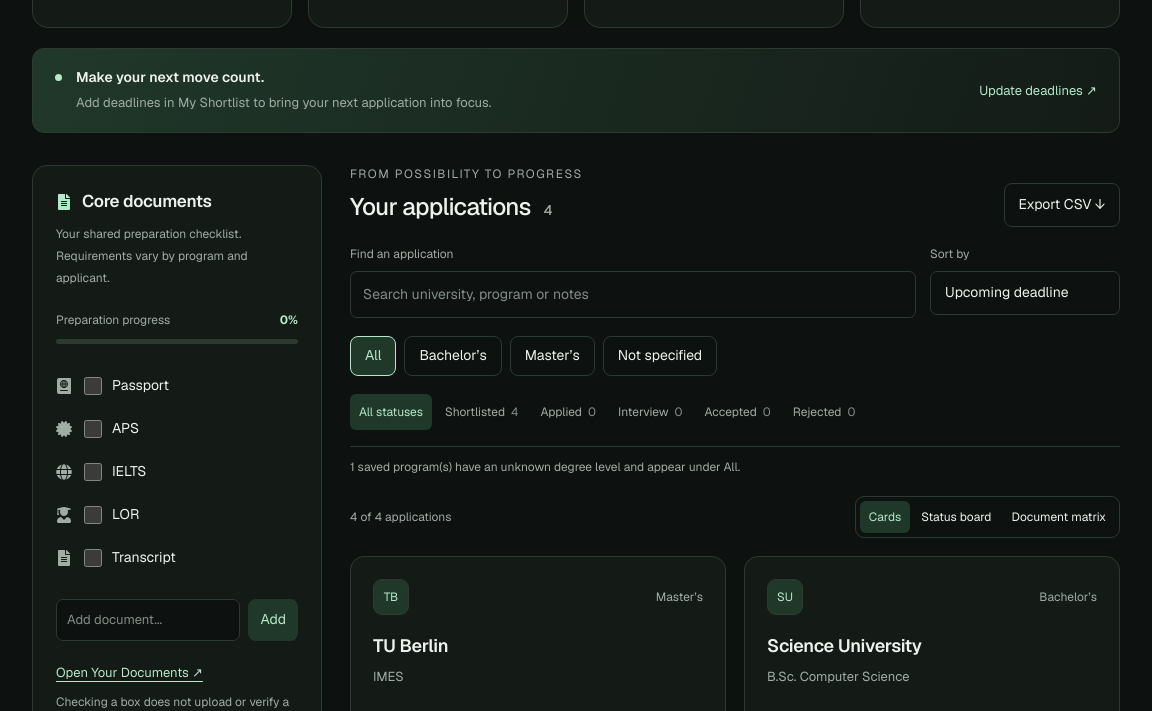
it: tracker degree filters use the same legacy classification and All includes unknown entries
(page scrolled)
expect the text "IMES" is shown: met, box [373,668,404,685]
Click the button "Master’s" at (552, 356), box [510,336,595,376]
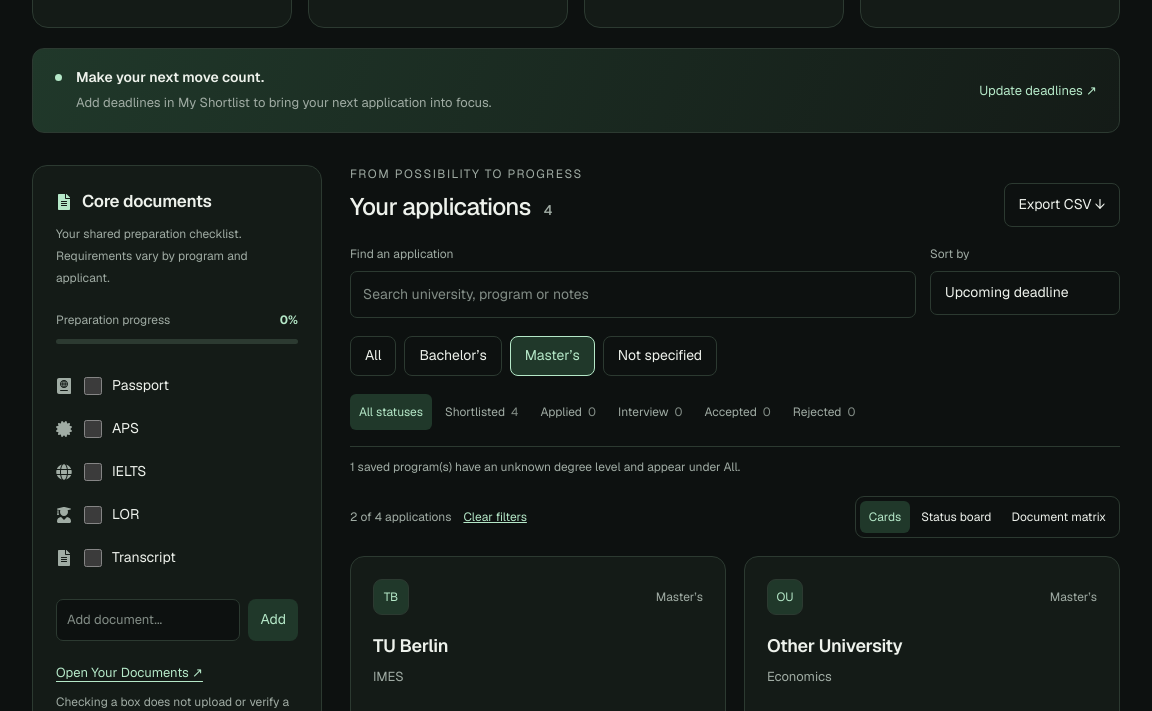
expect the text "IMES" is shown: met, box [373,668,404,685]
expect the text "B.Sc. Computer Science" is gone: met
Click the button "Bachelor’s" at (453, 356), box [404,336,502,376]
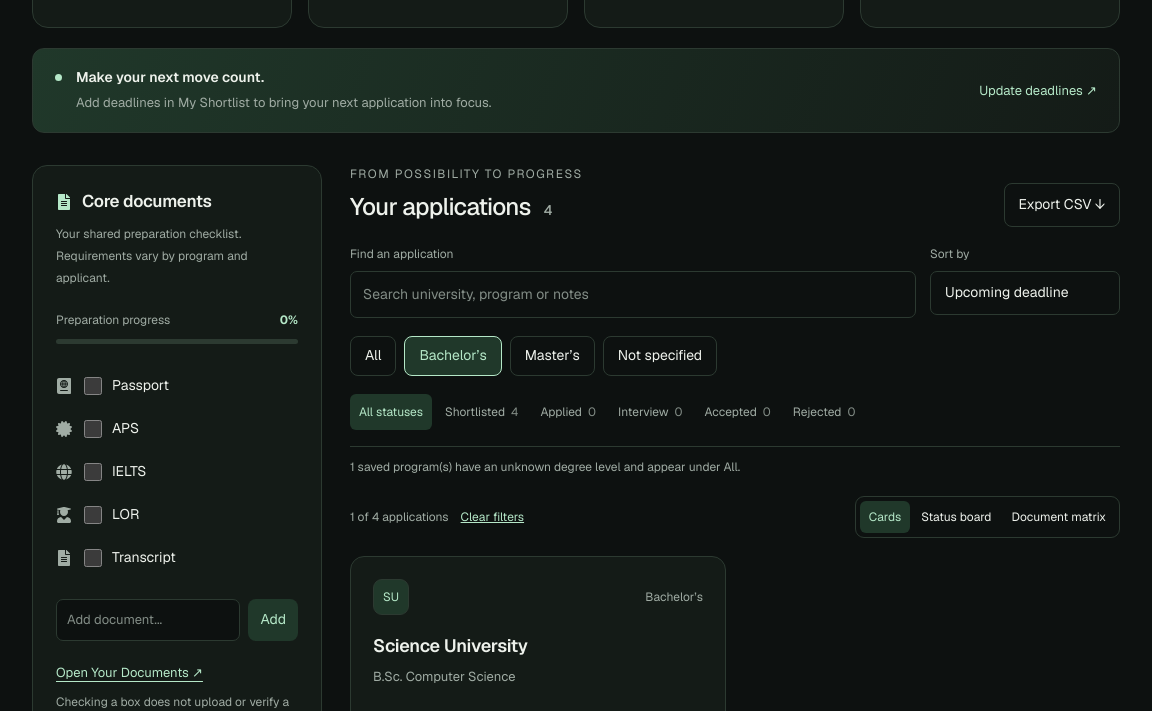
expect the text "B.Sc. Computer Science" is shown: met, box [373,668,515,685]
expect the text "IMES" is gone: met
Click the button "All" at (373, 356), box [350,336,396,376]
(page scrolled)
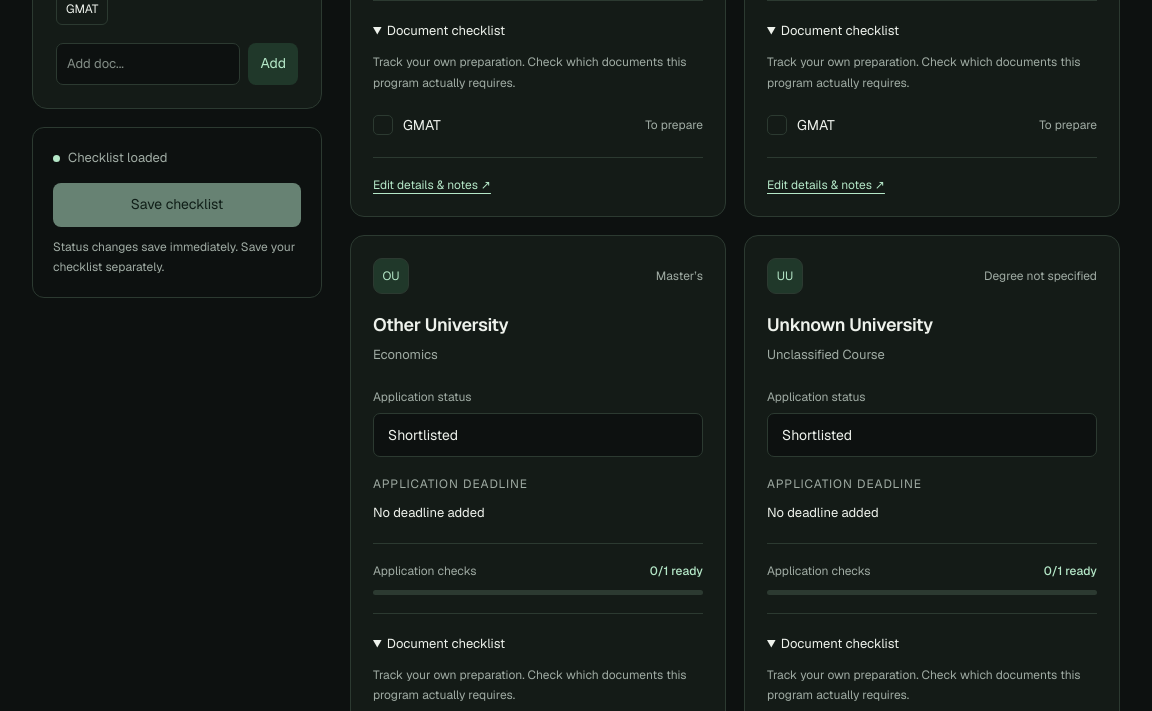
expect the text "Economics" is shown: met, box [373,346,438,363]
expect the text "Unclassified Course" is shown: met, box [767,346,885,363]
